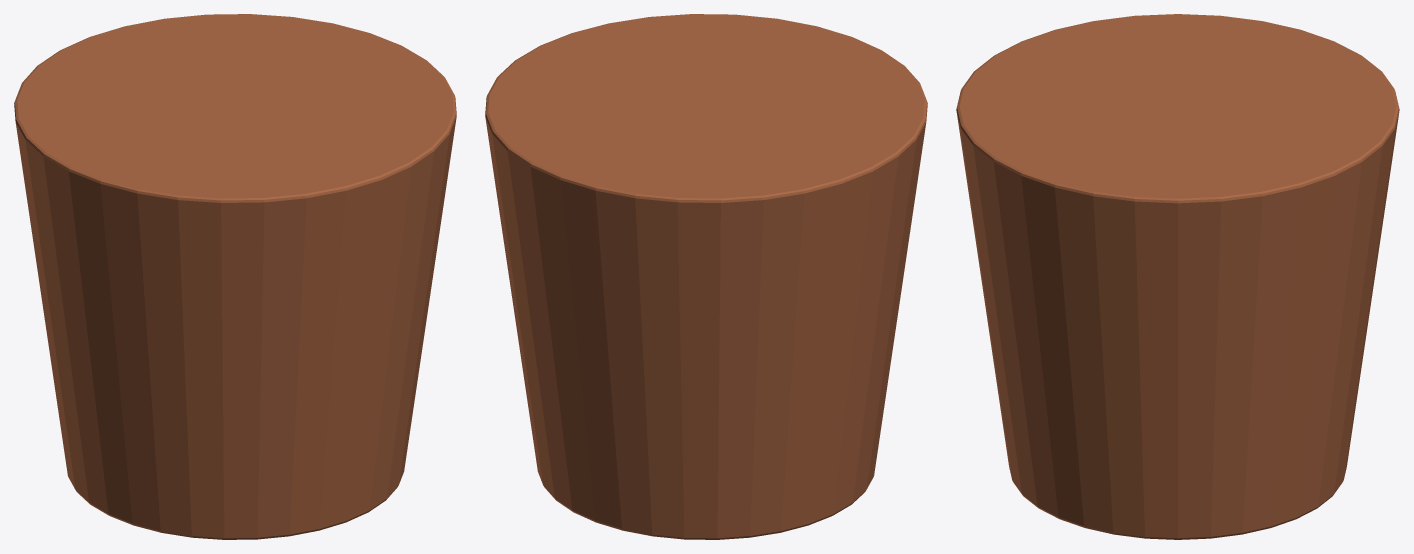
Rendered from planter-roundtrip.glb.
3 views of the same model, side by side, from view 1: azimuth 30°, elevation 25°; view 2: azimuth 150°, elevation 25°; view 3: azimuth 270°, elevation 25° (orthographic).
Visible parts, largest first — view 1: Clay pot; view 2: Clay pot; view 3: Clay pot.
Boxes of the visible parts, x1,y1,x2,y2 form: Clay pot: (14, 14, 456, 539); Clay pot: (485, 14, 927, 539); Clay pot: (956, 14, 1399, 539).
Size of the model in its own units: 0.6187 by 0.56 by 0.6187.
